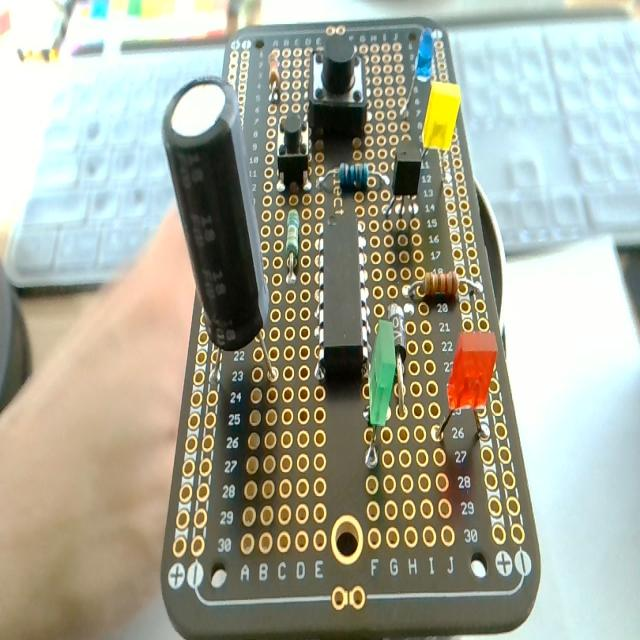Electrolytic capacitor: (163, 76, 277, 394)
IC: (313, 215, 372, 387)
diode: (385, 303, 407, 418)
led: (438, 332, 498, 444), (364, 323, 394, 469), (423, 81, 460, 151), (400, 31, 431, 114)
resistor: (406, 270, 476, 304), (316, 163, 386, 193), (283, 207, 300, 284), (268, 50, 280, 99)
switch: (308, 38, 366, 137), (277, 114, 309, 190)
transistor: (384, 142, 424, 224)
